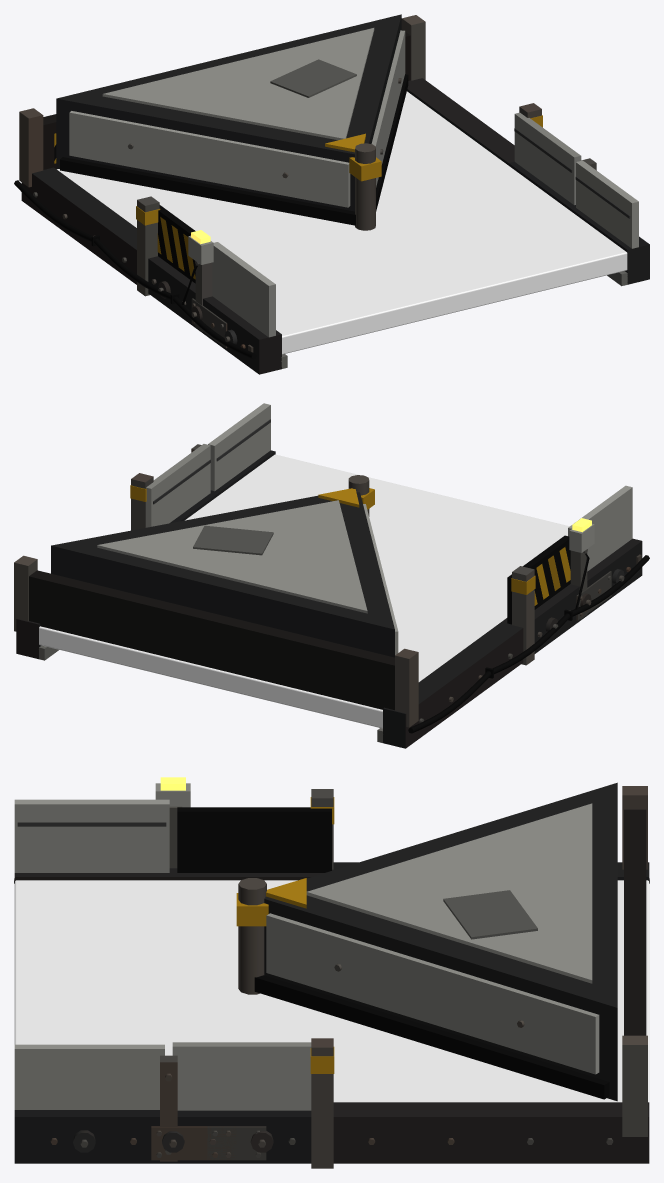
File: conveyor_splitter.glb
3 renders of one model, top to bottom at view 1: azimuth 30°, elevation 25°; view 2: azimuth 150°, elevation 25°; view 3: azimuth 270°, elevation 25°, orthographic. The views are drawn at different scales.
Visible parts, largest first — view 1: Frame, Belt; view 2: Frame, Belt; view 3: Frame, Belt.
Boxes of the visible parts, left/top/right/bottom form: Frame: left=14, top=14, right=649, bottom=374; Belt: left=57, top=91, right=627, bottom=354; Frame: left=14, top=403, right=649, bottom=748; Belt: left=39, top=454, right=569, bottom=728; Frame: left=14, top=777, right=649, bottom=1168; Belt: left=14, top=880, right=649, bottom=1102.
Bounding box in the file's own units: 1.98 × 0.54 × 2.
